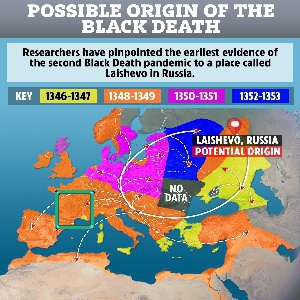square: (54, 189, 95, 230)
